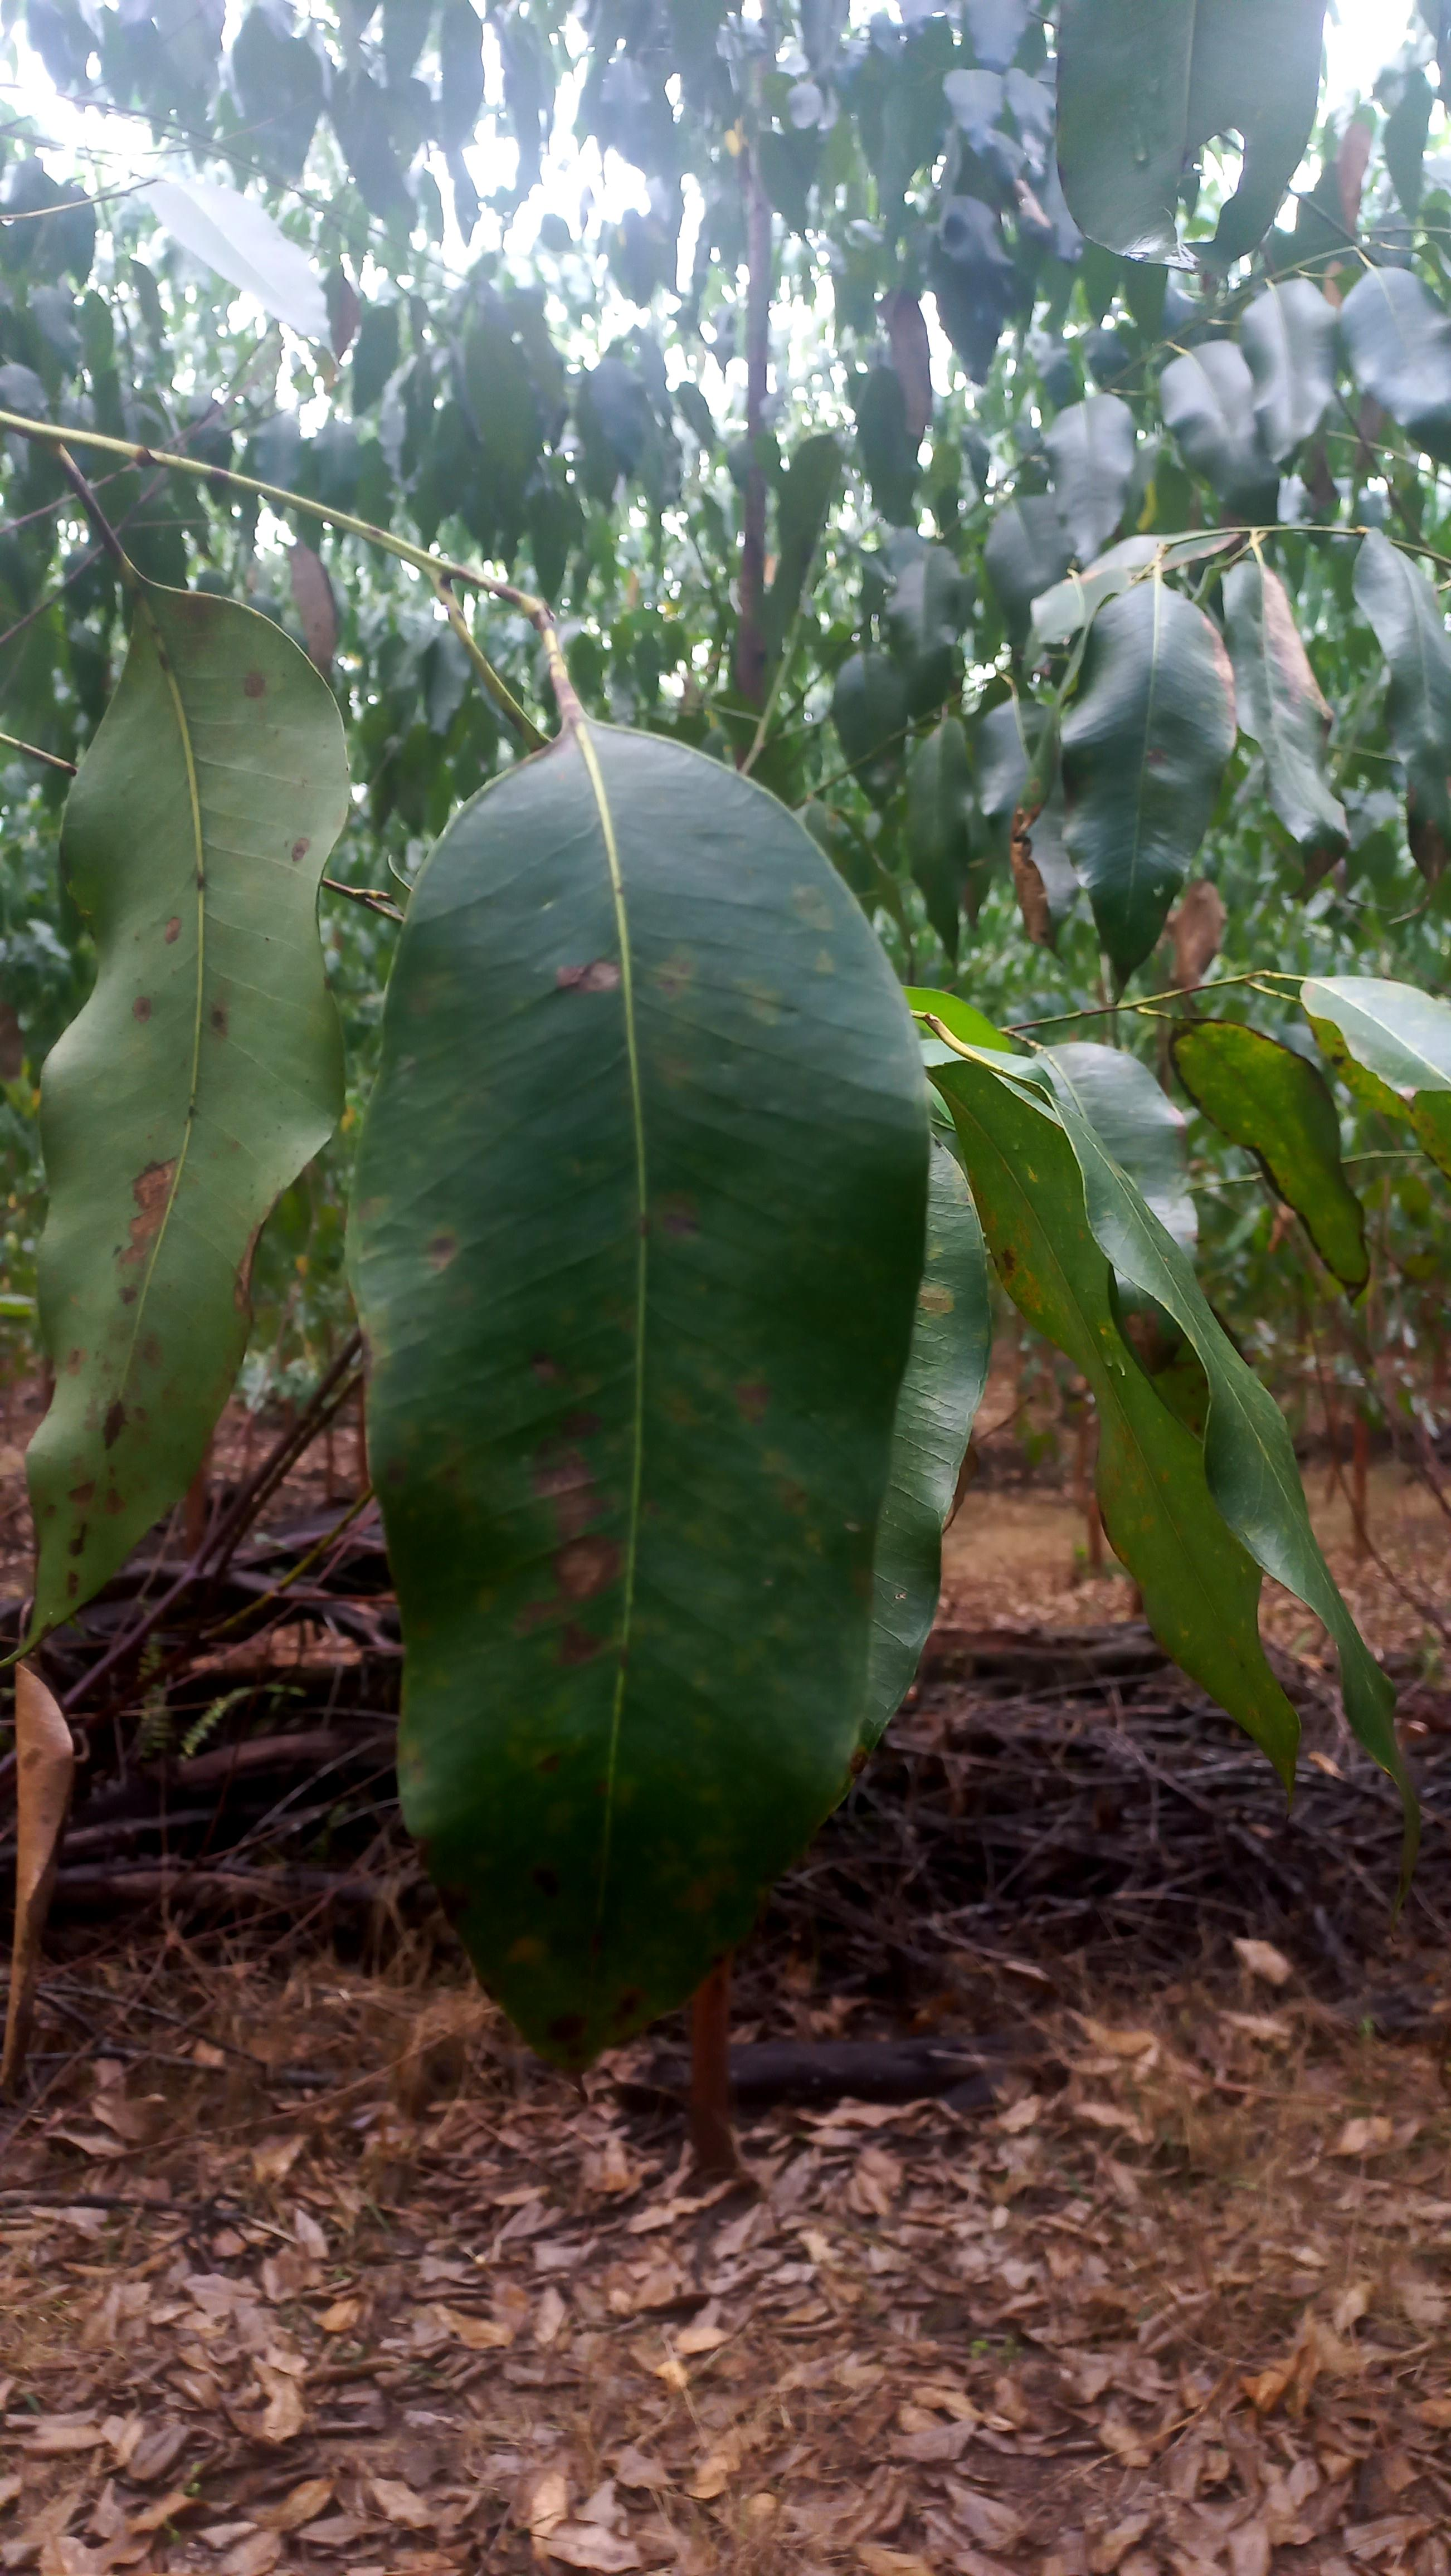Cylindrocladium: (471, 920, 635, 1755), (73, 787, 234, 1532), (1262, 564, 1336, 718), (1193, 605, 1248, 740)
